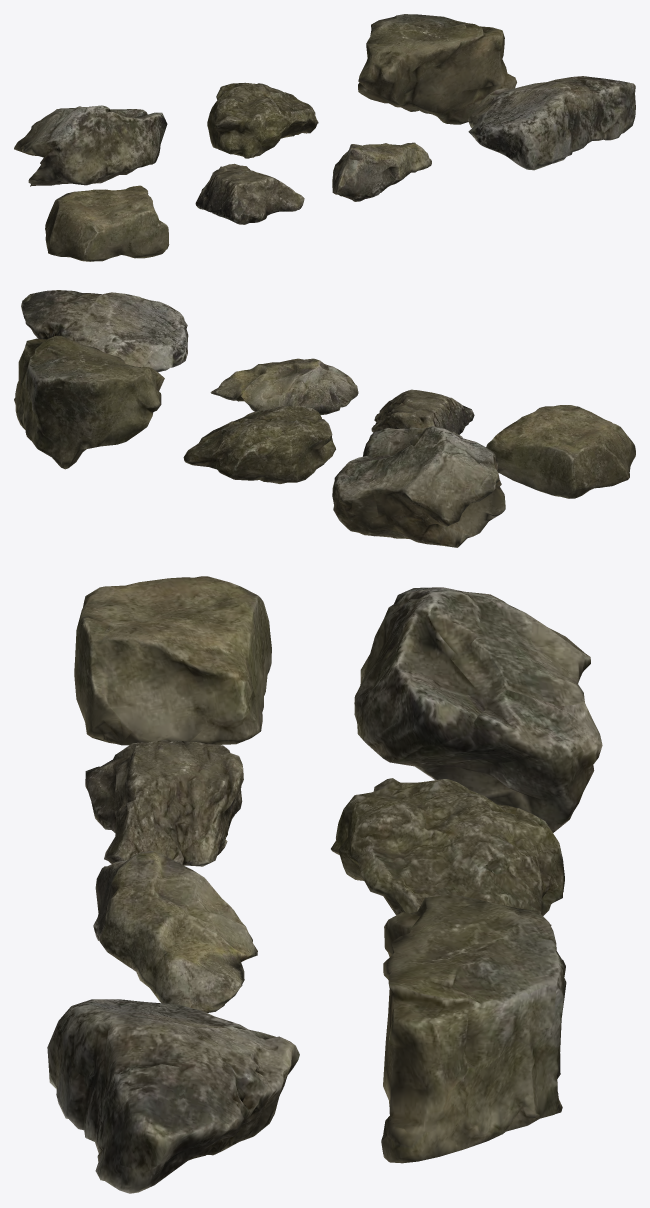
The model's file is rock_moss_set_02.glb.
3 views of the same model, one above another, from view 1: azimuth 30°, elevation 25°; view 2: azimuth 150°, elevation 25°; view 3: azimuth 270°, elevation 25° (orthographic). The views are drawn at different scales.
Parts seen in each view (by area): view 1: rock_moss_set_02_rock13, rock_moss_set_02_rock10, rock_moss_set_02_rock11, rock_moss_set_02_rock07, rock_moss_set_02_rock12, rock_moss_set_02_rock08, rock_moss_set_02_rock09; view 2: rock_moss_set_02_rock11, rock_moss_set_02_rock13, rock_moss_set_02_rock07, rock_moss_set_02_rock10, rock_moss_set_02_rock12, rock_moss_set_02_rock09, rock_moss_set_02_rock08; view 3: rock_moss_set_02_rock13, rock_moss_set_02_rock11, rock_moss_set_02_rock10, rock_moss_set_02_rock07, rock_moss_set_02_rock12, rock_moss_set_02_rock09, rock_moss_set_02_rock08.
Part boxes in pixels (x1,y1,x2,y2): rock_moss_set_02_rock13: (358, 14, 516, 124); rock_moss_set_02_rock10: (468, 76, 635, 170); rock_moss_set_02_rock11: (14, 105, 167, 186); rock_moss_set_02_rock07: (45, 185, 169, 261); rock_moss_set_02_rock12: (207, 82, 318, 158); rock_moss_set_02_rock08: (195, 163, 304, 224); rock_moss_set_02_rock09: (332, 142, 431, 201); rock_moss_set_02_rock11: (332, 426, 505, 547); rock_moss_set_02_rock13: (14, 336, 164, 469); rock_moss_set_02_rock07: (486, 405, 635, 498); rock_moss_set_02_rock10: (21, 290, 188, 372); rock_moss_set_02_rock12: (183, 405, 335, 483); rock_moss_set_02_rock09: (210, 358, 358, 415); rock_moss_set_02_rock08: (371, 389, 474, 434); rock_moss_set_02_rock13: (381, 894, 566, 1163); rock_moss_set_02_rock11: (354, 587, 602, 832); rock_moss_set_02_rock10: (47, 999, 299, 1193); rock_moss_set_02_rock07: (74, 576, 271, 745); rock_moss_set_02_rock12: (331, 778, 564, 925); rock_moss_set_02_rock09: (93, 850, 257, 1012); rock_moss_set_02_rock08: (85, 740, 243, 866).
Size of the model in its own units: 8.28 by 1.37 by 3.41.
Materials: 1 (1 with a texture image).
